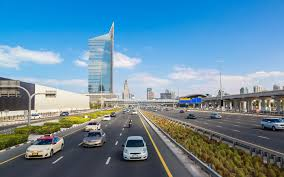car: (23, 133, 65, 161), (121, 134, 148, 161), (81, 129, 108, 149)
